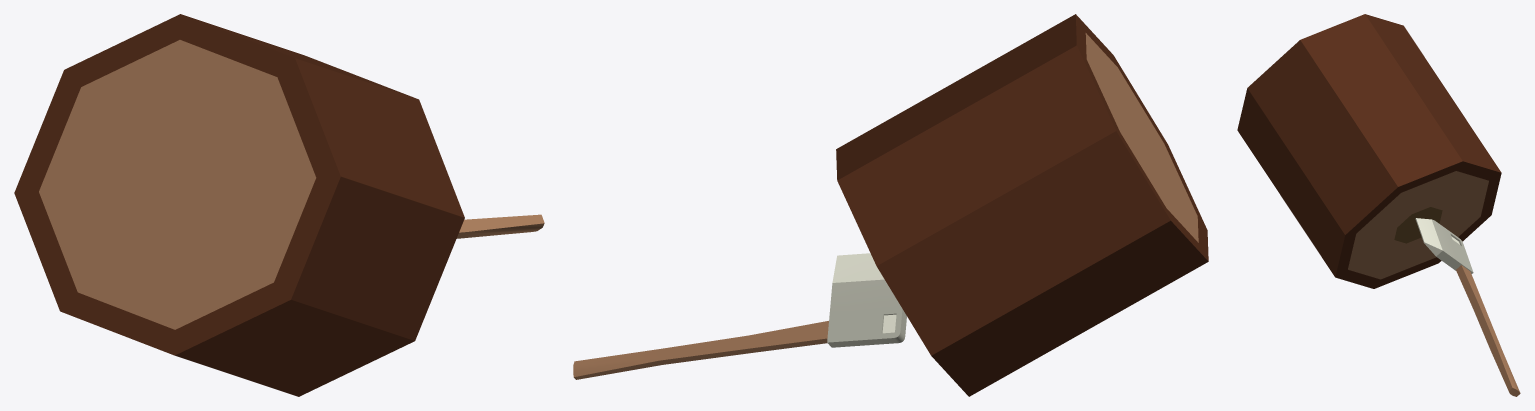
Rendered from log_axe.dae.
3 views of the same model, side by side, from view 1: azimuth 30°, elevation 25°; view 2: azimuth 150°, elevation 25°; view 3: azimuth 270°, elevation 25° (orthographic). The views are drawn at different scales.
Parts seen in each view (by area): view 1: Log w/ axe; view 2: Log w/ axe; view 3: Log w/ axe.
Part boxes in pixels (bbox=[...]): Log w/ axe: bbox=[14, 14, 544, 396]; Log w/ axe: bbox=[573, 14, 1208, 396]; Log w/ axe: bbox=[1237, 14, 1520, 396].
Size of the model in its own units: 0.2978 by 0.2023 by 0.1952.
